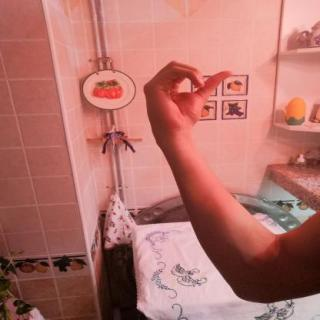WAW: (130, 53, 242, 145)
